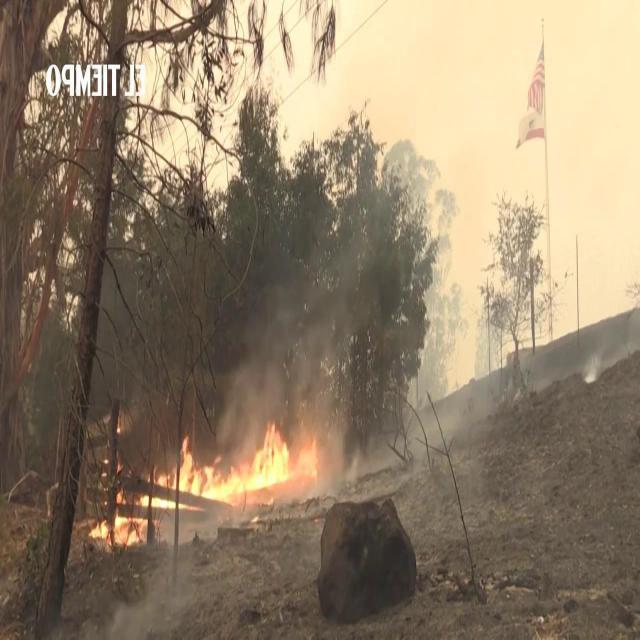Fire: (139, 420, 321, 504), (90, 516, 146, 546)
